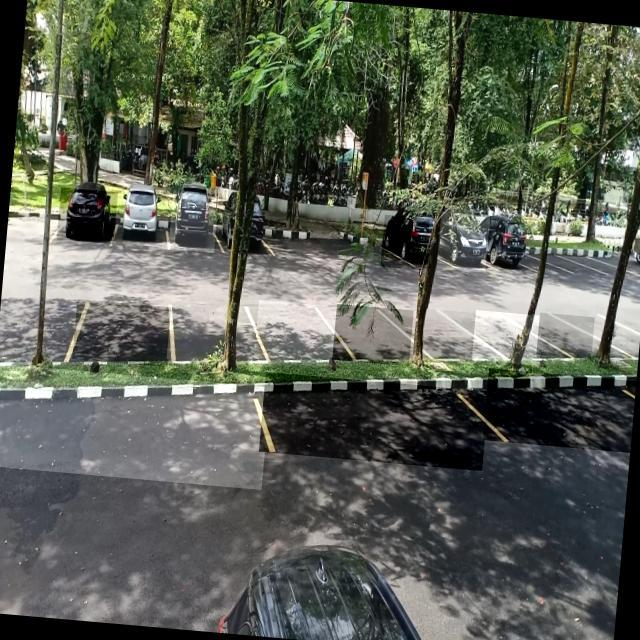empty: (0, 363, 270, 489), (259, 372, 489, 471), (482, 368, 636, 452), (72, 300, 173, 368), (167, 300, 260, 368), (254, 300, 336, 367), (332, 304, 414, 366), (472, 310, 544, 365), (418, 308, 486, 366), (536, 312, 594, 358)
occupied: (56, 187, 117, 244), (114, 189, 172, 247), (436, 211, 490, 272), (168, 192, 218, 252), (380, 214, 429, 270)
